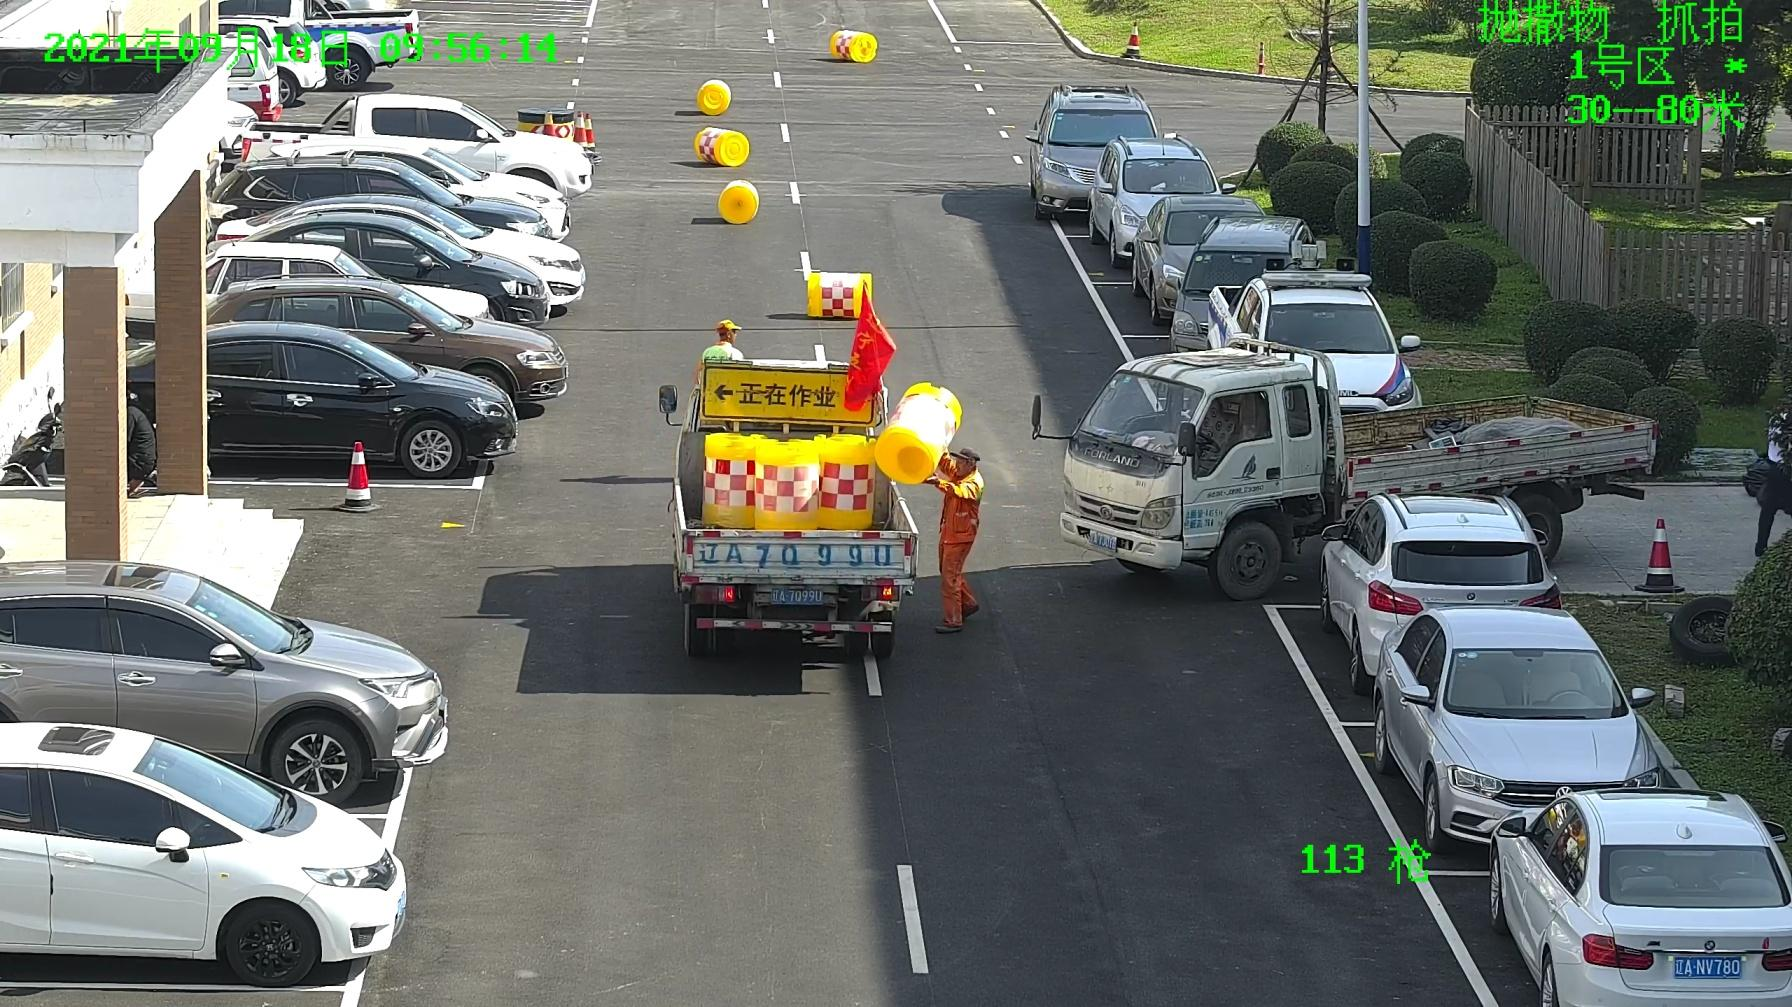cone_barrel: (873, 380, 962, 485), (754, 441, 820, 531), (702, 437, 757, 531), (816, 439, 871, 531), (802, 268, 871, 318), (692, 126, 750, 167), (716, 179, 761, 223), (828, 27, 878, 63), (694, 78, 731, 114)
